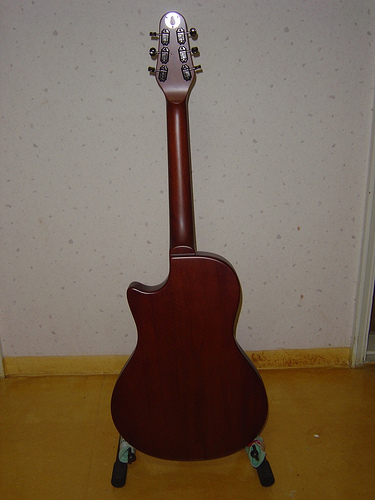guitar: (110, 7, 273, 460)
